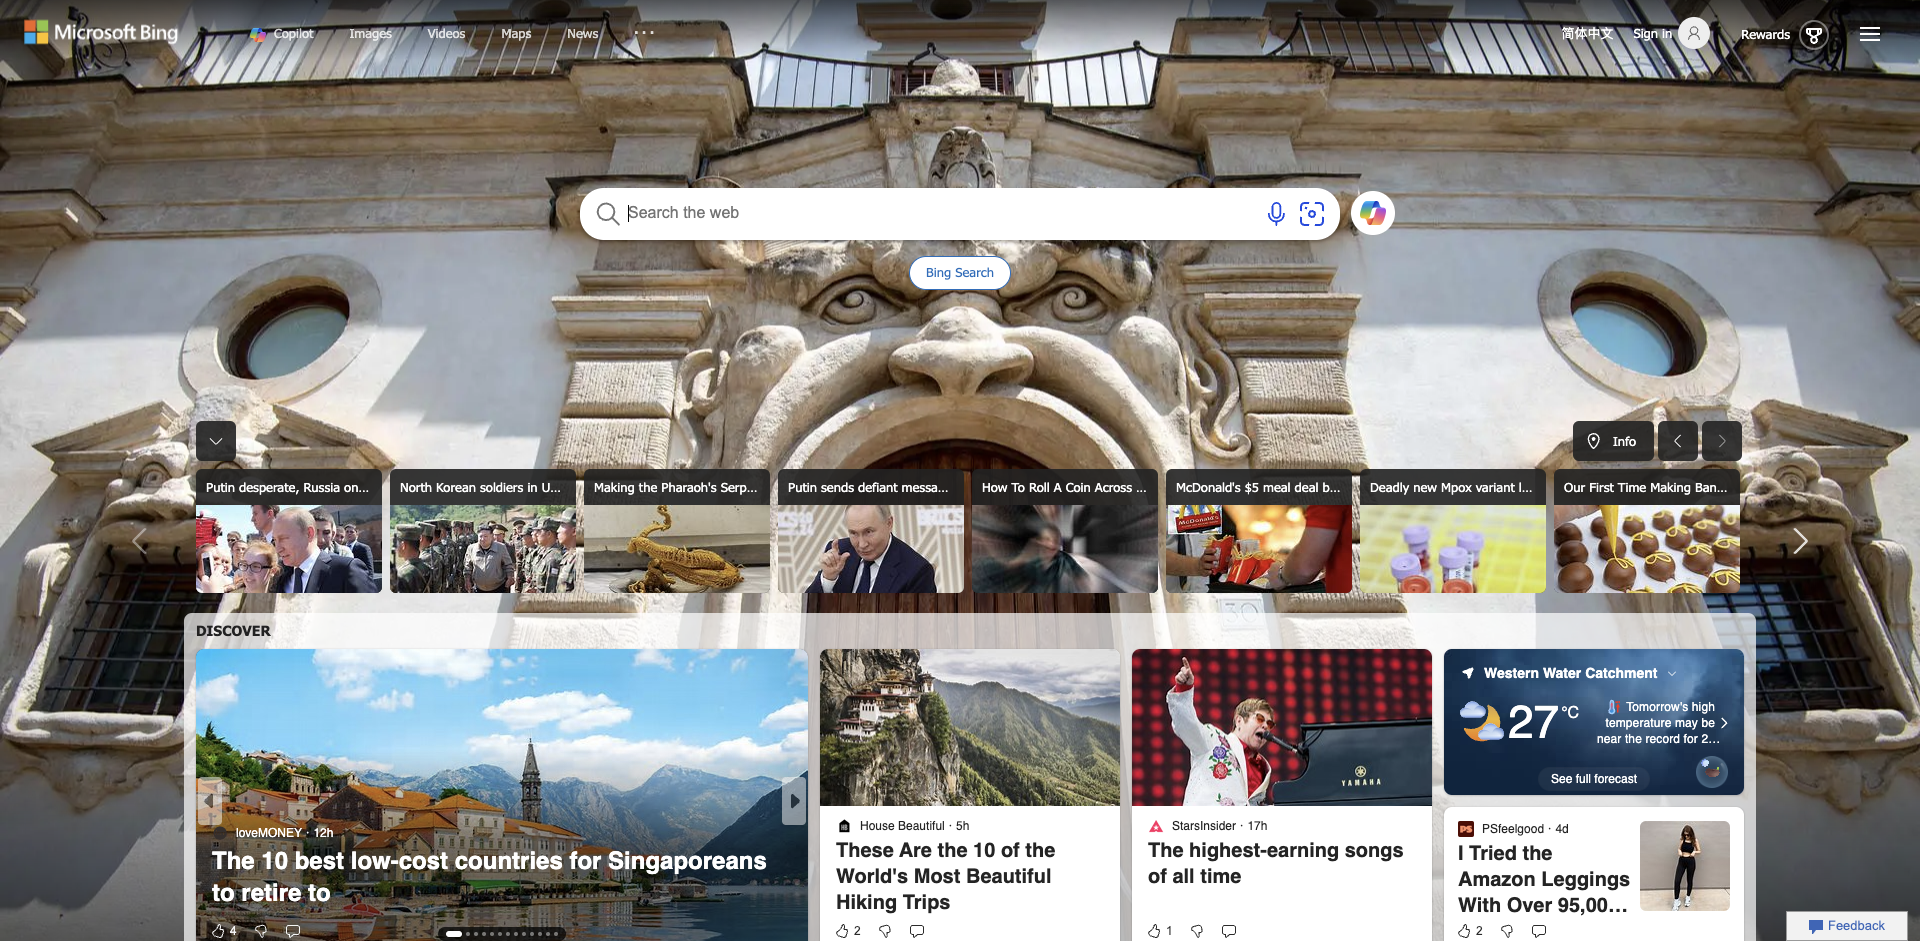button: (1728, 11, 1844, 55), (1633, 13, 1728, 53), (1787, 912, 1908, 941), (909, 256, 1011, 290), (125, 521, 165, 561), (1658, 421, 1698, 461), (1702, 421, 1742, 461), (196, 421, 236, 461), (1776, 521, 1815, 561), (1860, 13, 1880, 53), (1296, 202, 1320, 227), (1300, 202, 1324, 227), (1267, 202, 1284, 227)
icon: (12, 20, 190, 48)
label: (596, 202, 620, 227)
link: (196, 469, 382, 595), (584, 469, 770, 595), (778, 469, 964, 595), (972, 469, 1158, 595), (1166, 469, 1352, 595), (1360, 469, 1547, 595), (1554, 469, 1740, 595), (391, 469, 576, 595), (1749, 469, 1920, 595), (1573, 421, 1654, 461), (250, 13, 313, 53), (1561, 13, 1614, 53), (1351, 191, 1395, 235), (349, 25, 392, 40), (427, 25, 465, 40), (567, 25, 599, 40), (501, 25, 531, 40)
menu_item: (250, 13, 313, 53), (349, 13, 392, 53), (427, 13, 465, 53), (567, 13, 599, 53), (501, 13, 531, 53), (634, 10, 654, 49)
textarea: (628, 202, 1256, 224)
